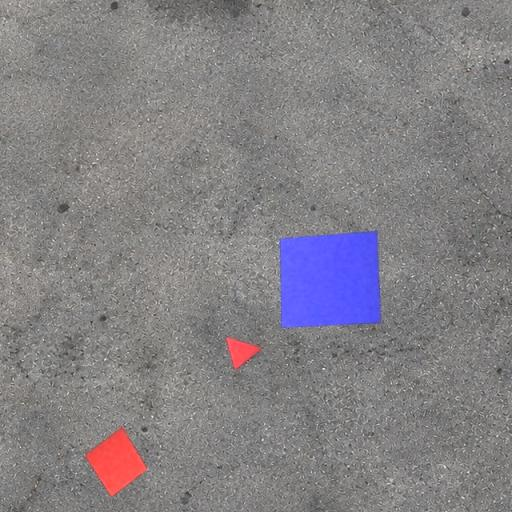BLUE_SQUARE: (279, 230, 382, 329)
RED_SQUARE: (84, 427, 148, 498)
